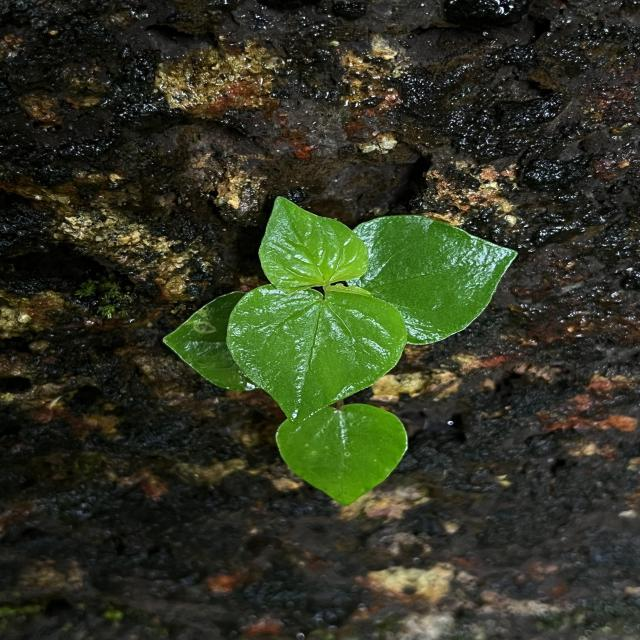Peperomia pellucida: (222, 282, 410, 428), (343, 212, 521, 350), (255, 192, 374, 296)
